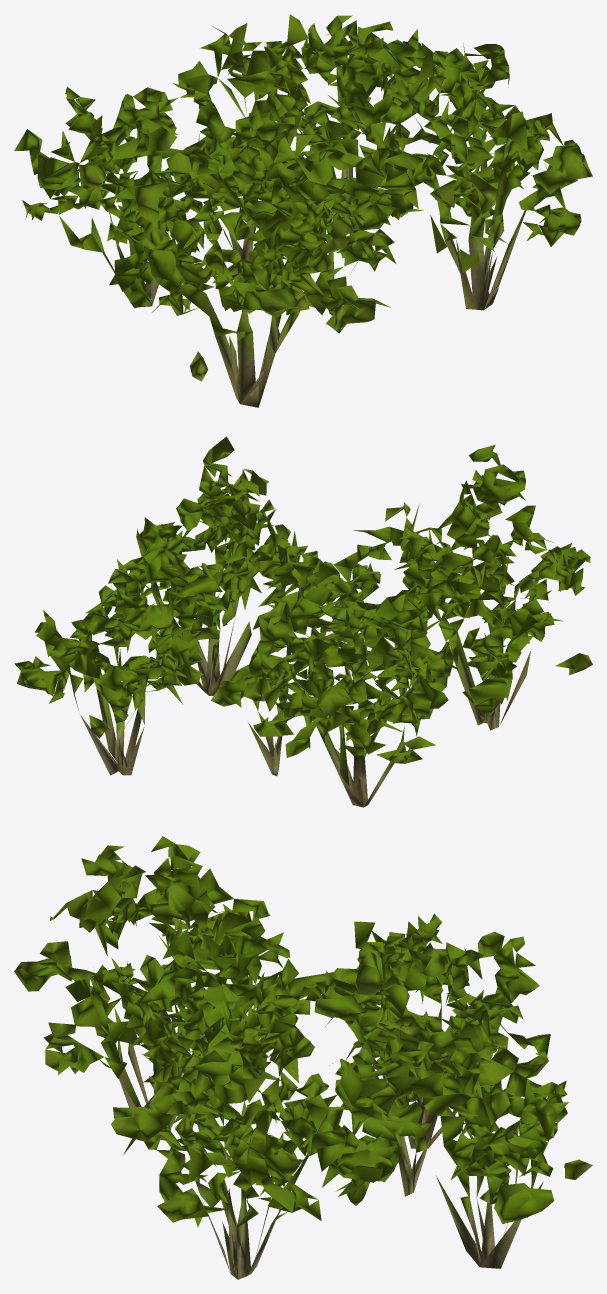
The model's file is kit_ordu_hazelnut_grove.glb.
The picture shows the model from 3 angles, top to bottom: view 1: azimuth 30°, elevation 25°; view 2: azimuth 150°, elevation 25°; view 3: azimuth 270°, elevation 25°; orthographic projection. The views are drawn at different scales.
Parts seen in each view (by area): view 1: Mesh1.0; view 2: Mesh1.0; view 3: Mesh1.0.
Part boxes in pixels (x1,y1,x2,y2): Mesh1.0: (14,14,592,407); Mesh1.0: (14,436,592,807); Mesh1.0: (14,836,592,1279).
Bounding box in the file's own units: 7.63 × 4.4 × 7.86.
1 material, 1 textured.
